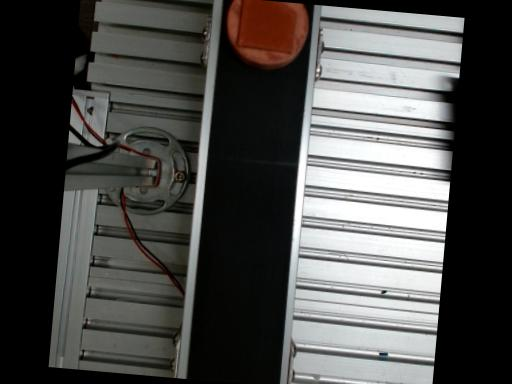Brown_Waper: (226, 0, 308, 68)
Not_Square: (237, 0, 297, 52)
